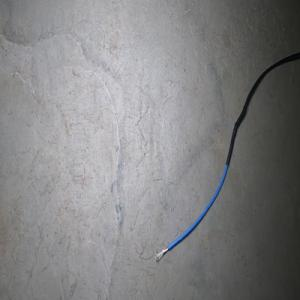Wire: (155, 49, 300, 260)
